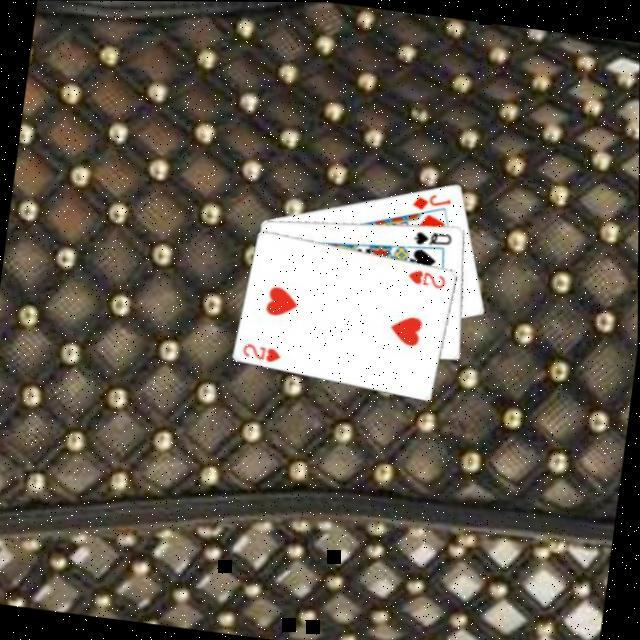2H: (241, 337, 287, 362), (407, 263, 452, 288)
JD: (412, 186, 456, 213)
QS: (412, 223, 457, 248)
